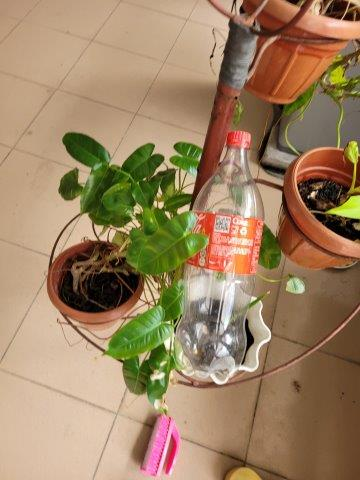botolplastik: (178, 132, 264, 376)
